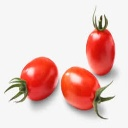tomato: (61, 67, 105, 110), (20, 56, 58, 101), (86, 28, 117, 76)
